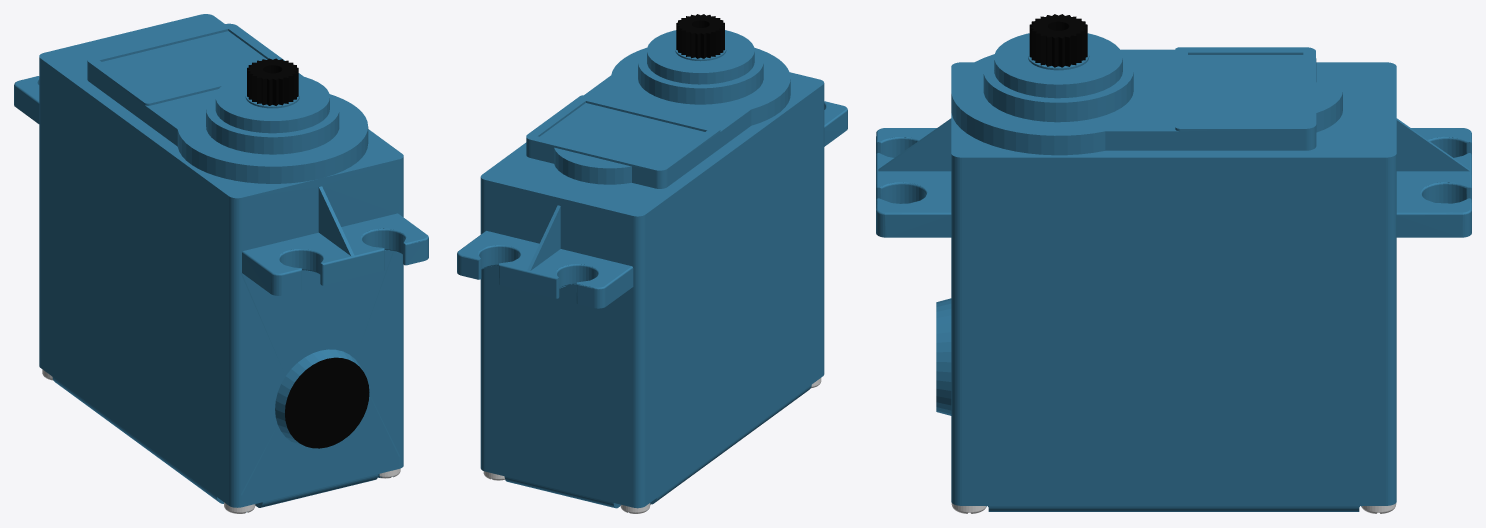
The picture shows the model from 3 angles, left to right: view 1: azimuth 30°, elevation 25°; view 2: azimuth 150°, elevation 25°; view 3: azimuth 270°, elevation 25°; orthographic projection. The views are drawn at different scales.
Visible parts, largest first — view 1: _1886; view 2: _1886; view 3: _1886.
Boxes of the visible parts, left/top/right/bottom form: _1886: left=14, top=14, right=428, bottom=513; _1886: left=457, top=14, right=847, bottom=513; _1886: left=876, top=14, right=1471, bottom=513.
Bounding box in the file's own units: 21 × 55.5 × 45.4.
